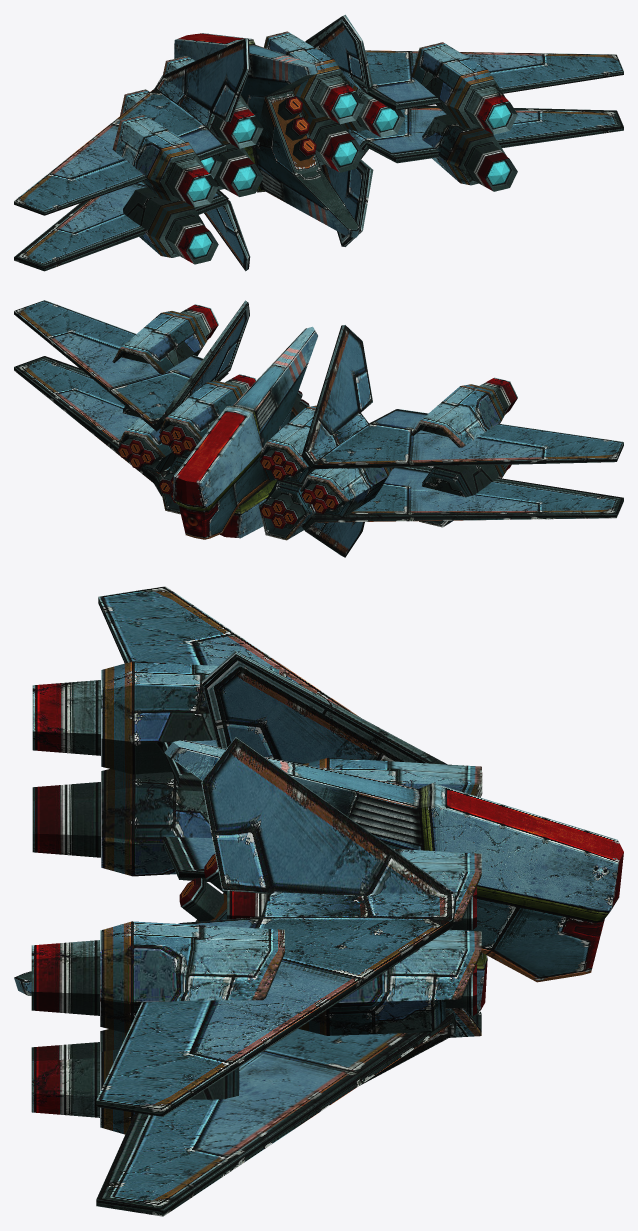
Rendered from droneR.obj.
3 renders of one model, top to bottom at view 1: azimuth 30°, elevation 25°; view 2: azimuth 150°, elevation 25°; view 3: azimuth 270°, elevation 25°, orthographic. The views are drawn at different scales.
Visible parts, largest first — view 1: drone_R.001_Mesh.030; view 2: drone_R.001_Mesh.030; view 3: drone_R.001_Mesh.030.
Part boxes in pixels (bbox=[...]): drone_R.001_Mesh.030: bbox=[14, 14, 623, 271]; drone_R.001_Mesh.030: bbox=[14, 300, 623, 557]; drone_R.001_Mesh.030: bbox=[14, 586, 623, 1216].
Bounding box in the file's own units: 4.24 × 1.57 × 2.09.
1 material, 1 textured.
